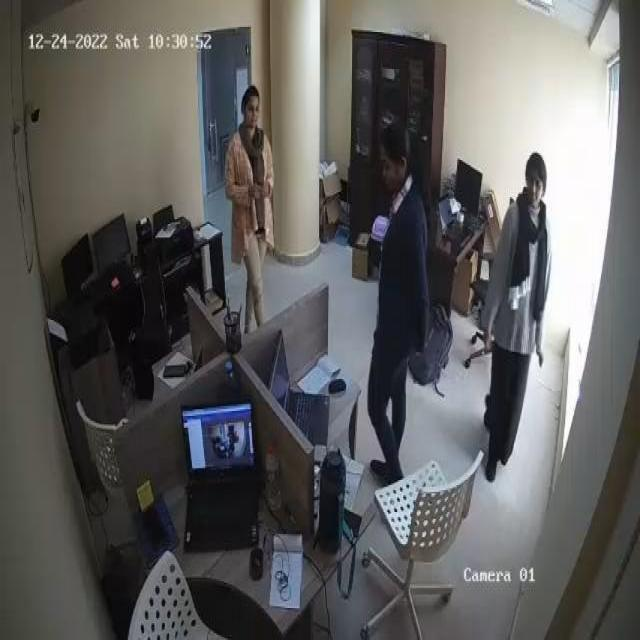bare_hand: (535, 337, 549, 379), (481, 323, 496, 360), (258, 179, 274, 202), (245, 184, 263, 202)
